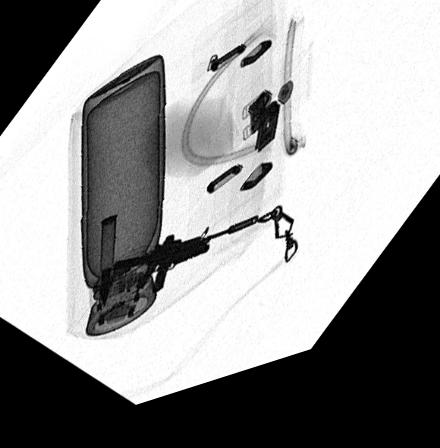Bullet: (97, 220, 116, 313)
Gun: (105, 230, 255, 300)
